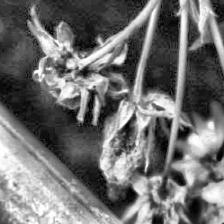Gray Mold: (27, 5, 137, 124), (99, 70, 176, 200)
